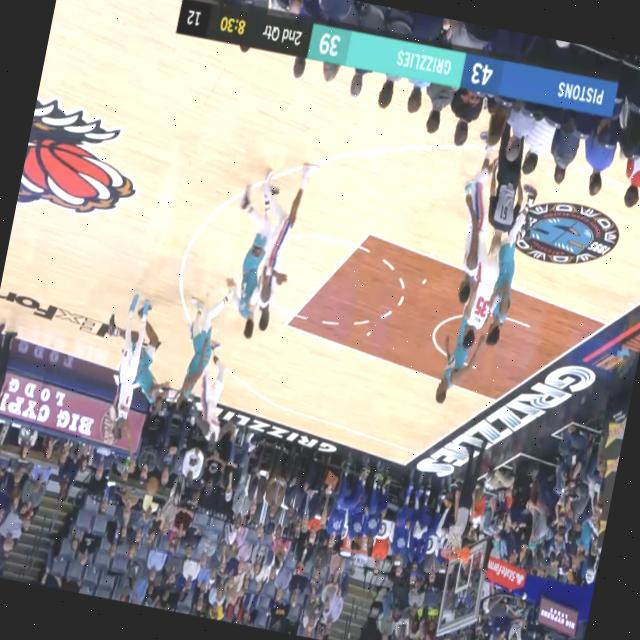no foul: (64, 278, 200, 474), (203, 142, 324, 361), (464, 178, 554, 379), (434, 146, 508, 327), (160, 275, 233, 429)
